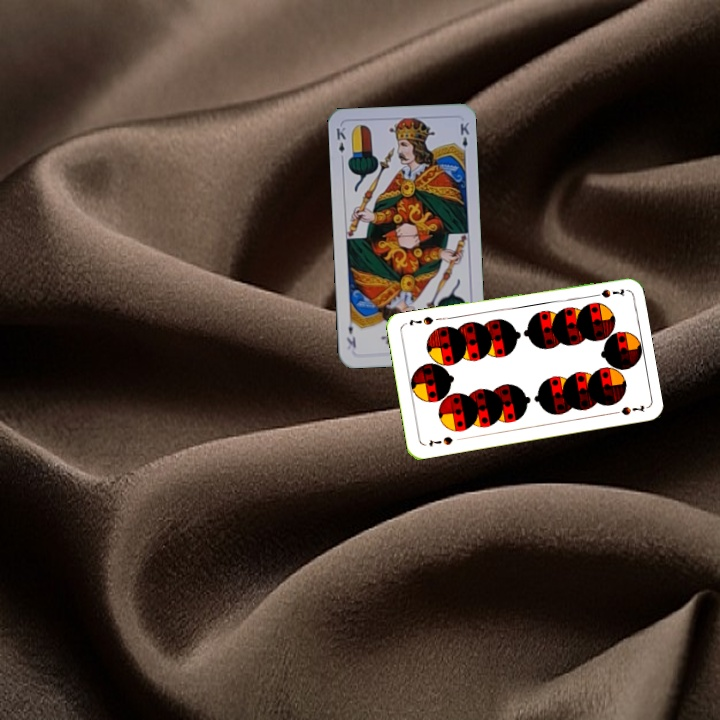EK: (332, 123, 348, 164)
S7: (587, 285, 627, 300), (425, 432, 456, 449)
